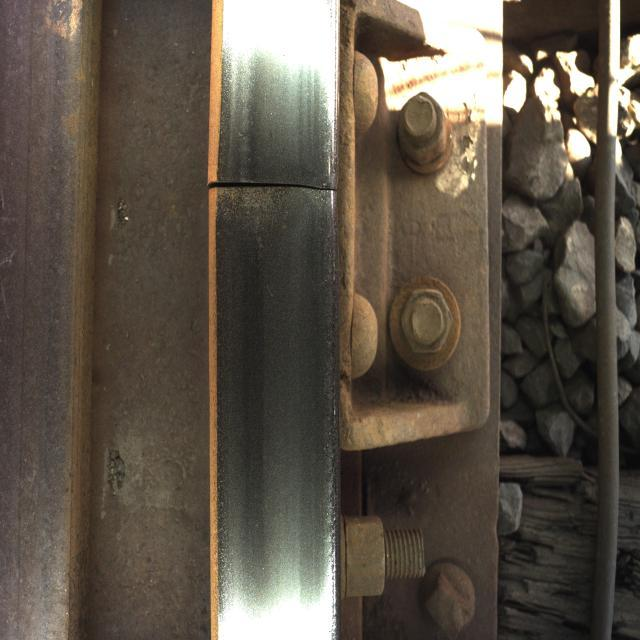spalling: (199, 144, 350, 231)
